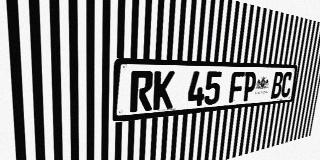4: (187, 71, 206, 107)
5: (204, 71, 222, 105)
B: (270, 72, 284, 99)
C: (280, 72, 293, 98)
F: (229, 72, 245, 103)
K: (153, 71, 175, 110)
P: (242, 72, 257, 101)
R: (130, 71, 154, 112)
